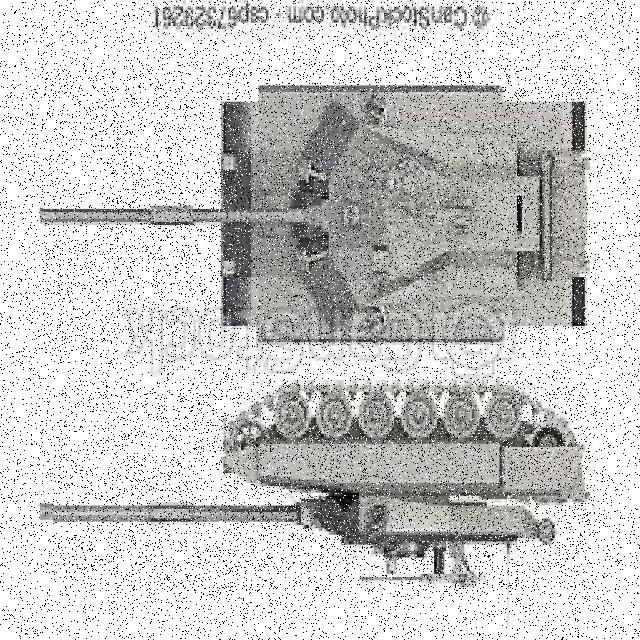MIL_MBT: (43, 66, 592, 344), (53, 382, 589, 592)
